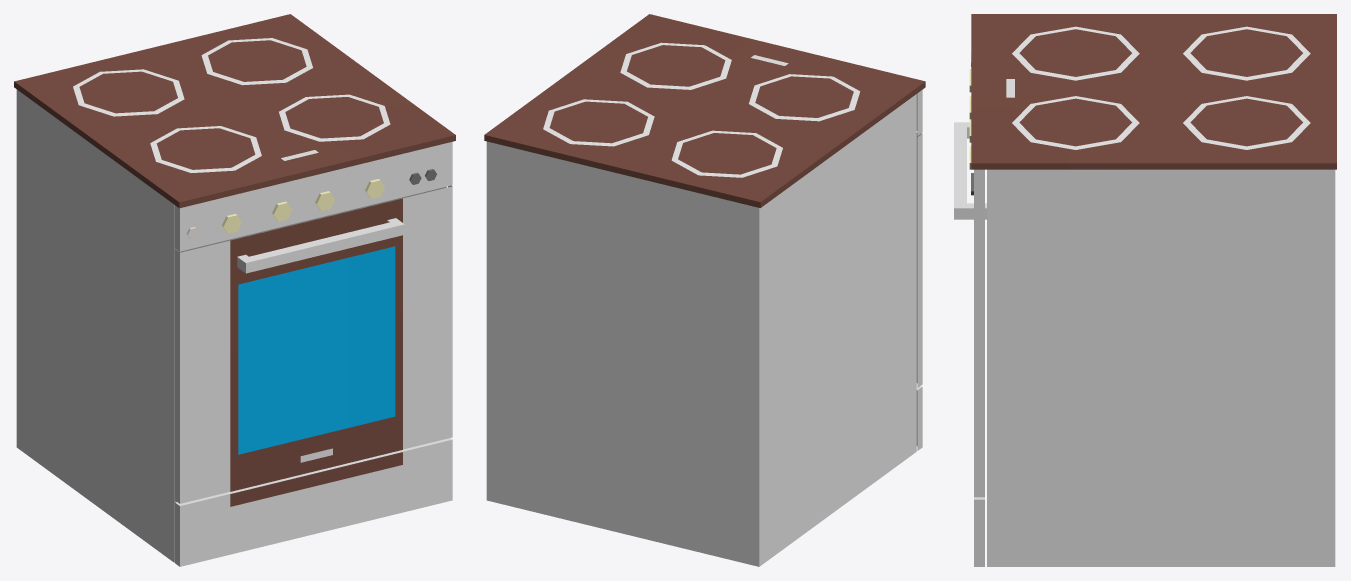
The model's file is kitchen_item_028.glb.
The picture shows the model from 3 angles, left to right: view 1: azimuth 30°, elevation 25°; view 2: azimuth 150°, elevation 25°; view 3: azimuth 270°, elevation 25°; orthographic projection. The views are drawn at different scales.
Parts seen in each view (by area): view 1: kitchen_item_028; view 2: kitchen_item_028; view 3: kitchen_item_028.
Part boxes in pixels (<box>): kitchen_item_028: <box>14,14,455,566</box>; kitchen_item_028: <box>484,14,925,566</box>; kitchen_item_028: <box>954,14,1336,566</box>.
Size of the model in its own units: 0.617 by 0.782 by 0.6688.
1 material, 1 textured.
